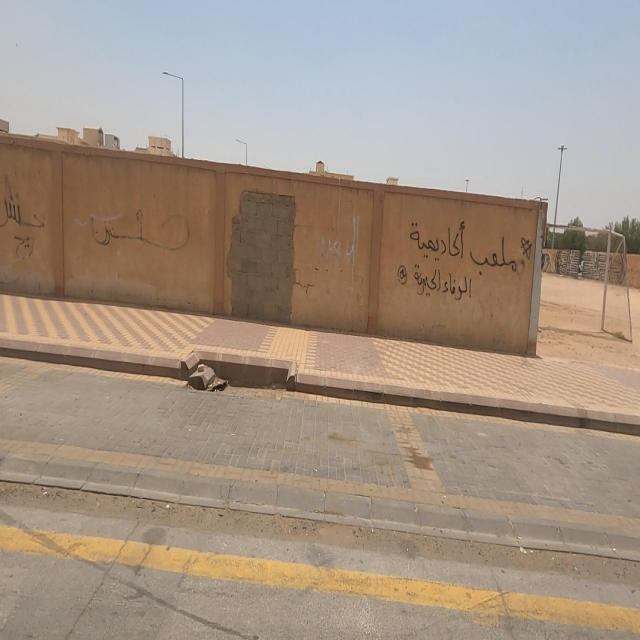Graffiti: (398, 221, 535, 301), (91, 206, 193, 253), (2, 173, 44, 260), (322, 204, 362, 260)
